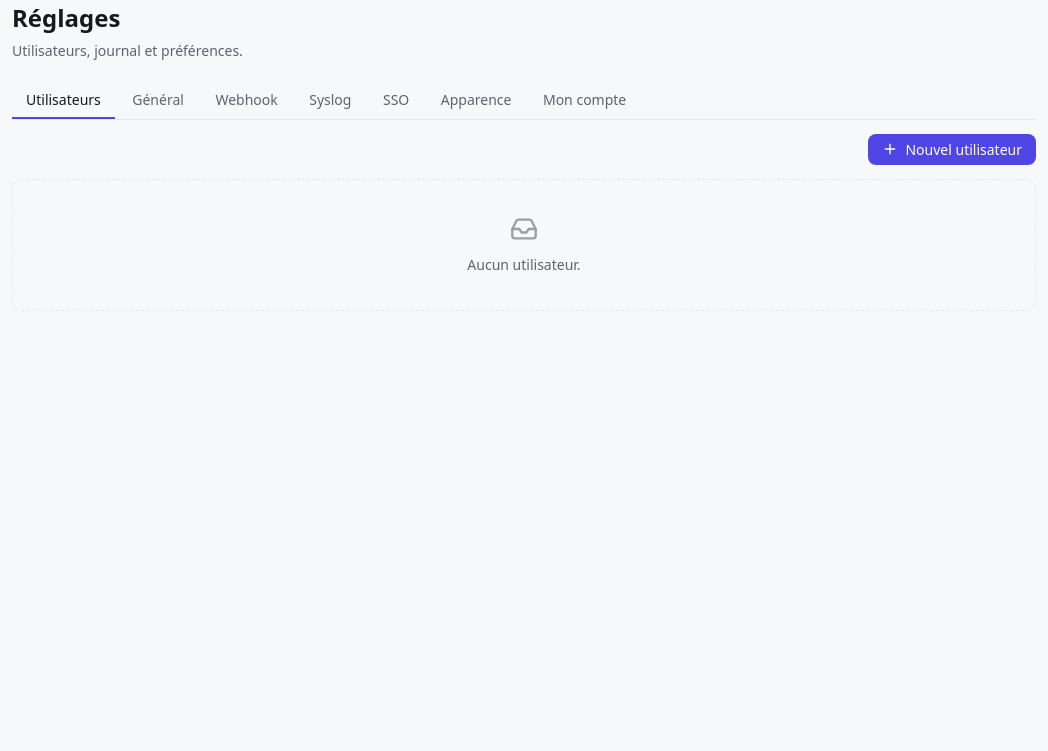
Test: réglages SSO › n'expose jamais le secret, affiche les URL à copier et enregistre le mapping
The image size is (1048, 751).
Later steps or results of the test are not shown.
Click the tab "SSO" at (396, 100), box top-left (369, 82), bottom-right (423, 118)
(page scrolled)
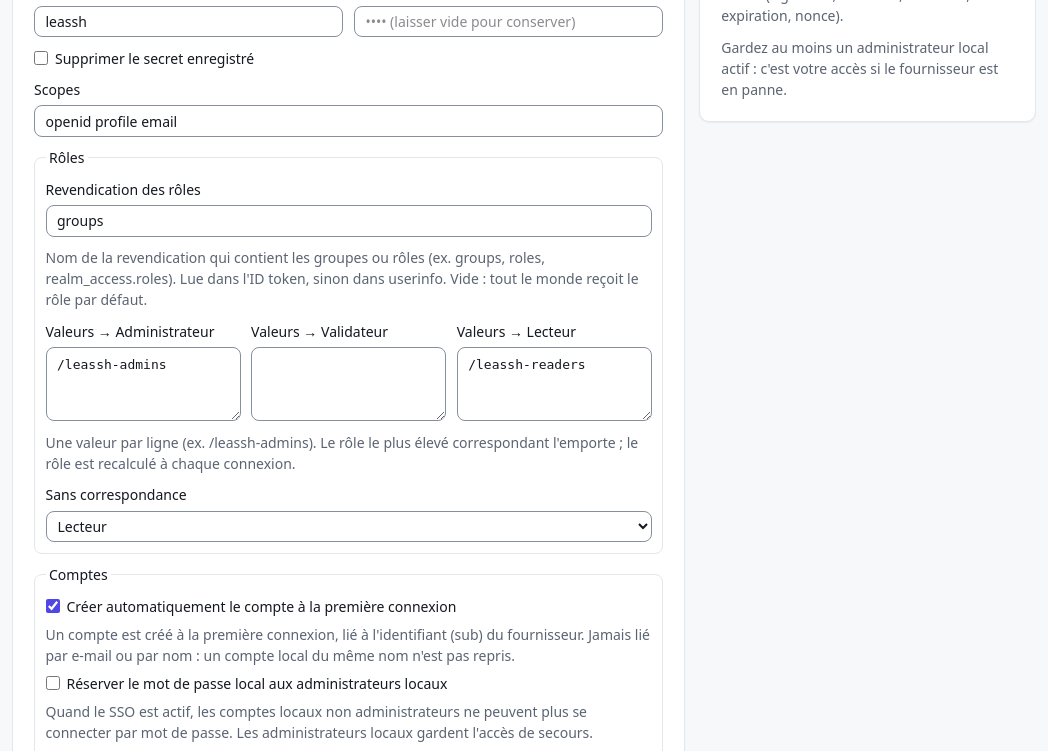
Check: the password field labelled "Secret client" is empty, box top-left (354, 6), bottom-right (663, 37)
Check: the text box labelled "Valeurs → Administrateur" holds "/leassh-admins", box top-left (46, 347), bottom-right (241, 421)
